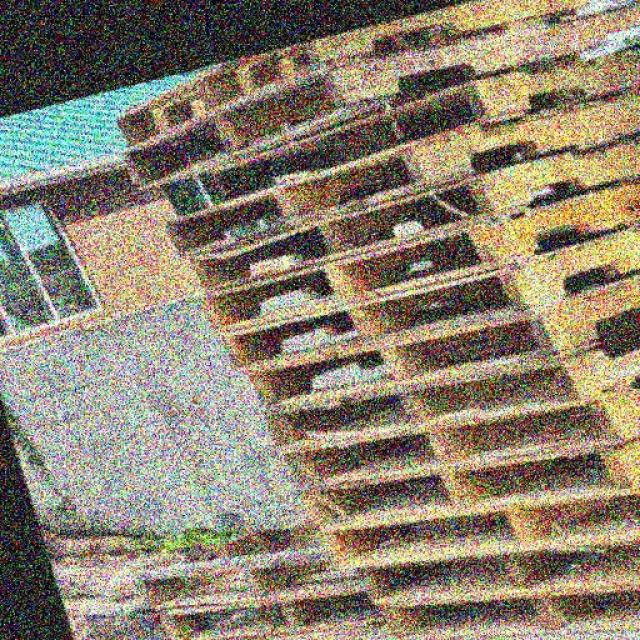non-igps: (116, 0, 639, 200), (150, 28, 639, 236), (158, 78, 639, 272), (179, 123, 639, 304), (105, 0, 600, 163), (184, 169, 639, 346), (210, 215, 639, 388), (238, 263, 639, 426), (254, 316, 639, 462), (268, 369, 639, 499), (286, 428, 638, 544), (314, 468, 639, 583), (127, 499, 385, 613), (341, 522, 639, 610), (368, 571, 639, 640), (150, 568, 405, 640)
